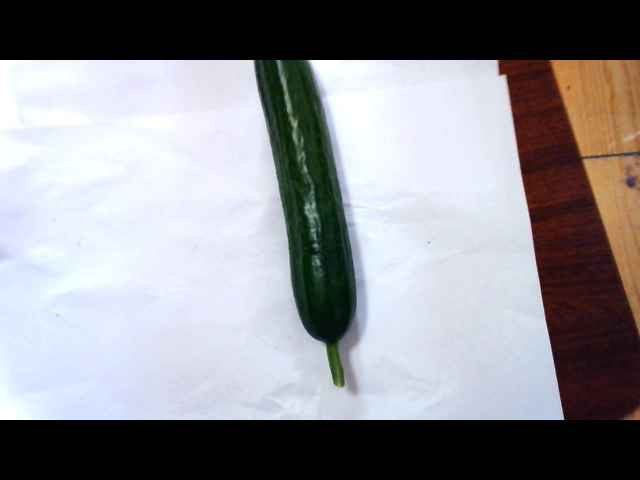cucumber: (242, 61, 364, 390)
